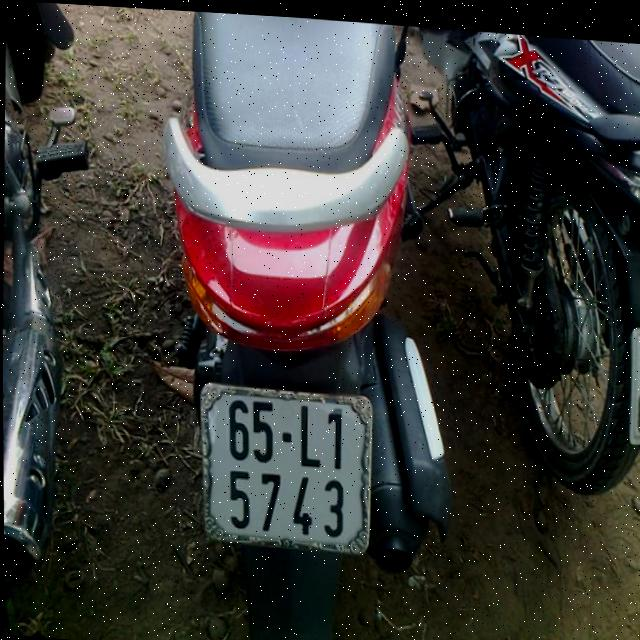motorcycle: (154, 9, 458, 640), (406, 25, 640, 510)
plate: (192, 377, 377, 565)
